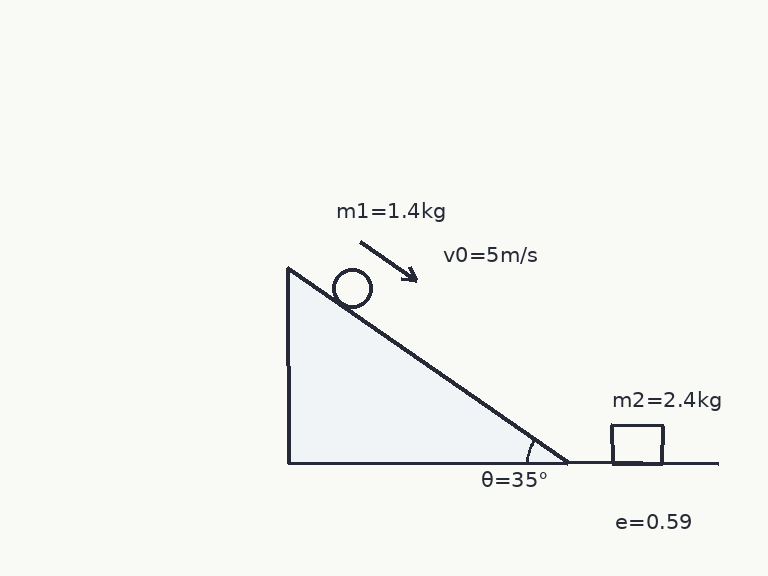ball: (330, 266, 374, 310)
block: (609, 424, 665, 465)
ramp: (286, 265, 569, 465)
